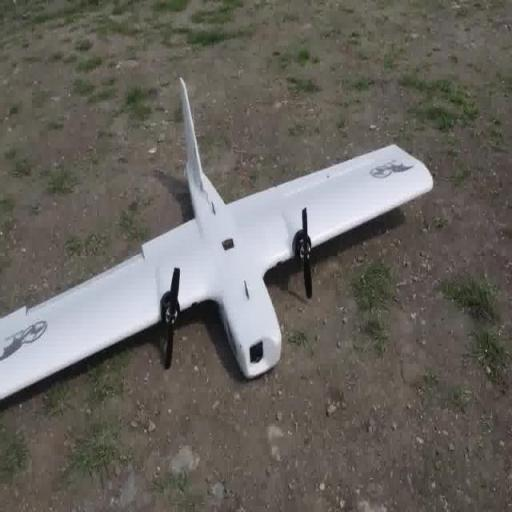uav: (0, 72, 438, 406)
